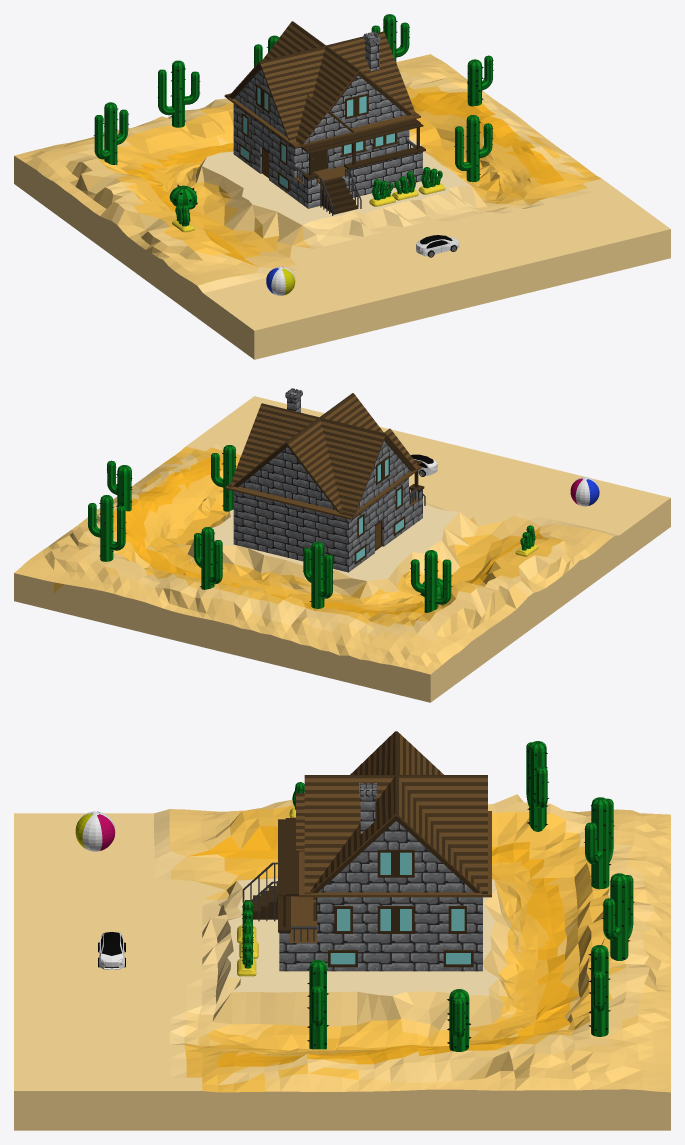
3 views of the same model, one above another, from view 1: azimuth 30°, elevation 25°; view 2: azimuth 150°, elevation 25°; view 3: azimuth 270°, elevation 25° (orthographic). The views are drawn at different scales.
Visible parts, largest first — view 1: Cube.001, Cube.586, Cylinder.037, Cylinder.044, Cylinder.045, Cylinder.038, Cylinder.042, VEHICLES_TESLA, OBJRANDOM_BEACHBALL, Cylinder.039, Cylinder.041, Sphere.023 (+1 smaller); view 2: Cube.001, Cube.586, Cylinder.042, Cylinder.045, Cylinder.044, Cylinder.043, Cylinder.037, Cylinder.038, OBJRANDOM_BEACHBALL; view 3: Cube.001, Cube.586, Cylinder.043, Cylinder.044, Cylinder.045, Cylinder.042, Cylinder.037, OBJRANDOM_BEACHBALL, Cylinder.038, VEHICLES_TESLA, Cylinder.041.
Part boxes in pixels (bbox=[...]): Cube.001: bbox=[14, 54, 670, 359]; Cube.586: bbox=[224, 21, 425, 215]; Cylinder.037: bbox=[454, 115, 493, 182]; Cylinder.044: bbox=[157, 60, 200, 127]; Cylinder.045: bbox=[93, 102, 129, 164]; Cylinder.038: bbox=[467, 55, 493, 106]; Cylinder.042: bbox=[371, 14, 409, 62]; VEHICLES_TESLA: bbox=[416, 235, 459, 257]; OBJRANDOM_BEACHBALL: bbox=[266, 266, 295, 295]; Cylinder.039: bbox=[369, 179, 395, 206]; Cylinder.041: bbox=[418, 167, 445, 194]; Sphere.023: bbox=[169, 184, 197, 209]; Cube.001: bbox=[14, 396, 670, 702]; Cube.586: bbox=[225, 388, 425, 572]; Cylinder.042: bbox=[88, 495, 126, 561]; Cylinder.045: bbox=[410, 550, 452, 612]; Cylinder.044: bbox=[303, 541, 333, 608]; Cylinder.043: bbox=[193, 527, 222, 589]; Cylinder.037: bbox=[211, 445, 240, 511]; Cylinder.038: bbox=[107, 460, 132, 511]; OBJRANDOM_BEACHBALL: bbox=[570, 477, 599, 506]; Cube.001: bbox=[14, 794, 670, 1130]; Cube.586: bbox=[242, 731, 491, 971]; Cylinder.043: bbox=[602, 873, 634, 960]; Cylinder.044: bbox=[584, 797, 614, 889]; Cylinder.045: bbox=[526, 741, 548, 831]; Cylinder.042: bbox=[588, 945, 610, 1036]; Cylinder.037: bbox=[307, 959, 328, 1049]; OBJRANDOM_BEACHBALL: bbox=[75, 811, 115, 851]; Cylinder.038: bbox=[447, 989, 471, 1051]; VEHICLES_TESLA: bbox=[98, 932, 125, 969]; Cylinder.041: bbox=[237, 933, 256, 976].
Bounding box in the file's own units: 4002 × 1644 × 4001.
Materials: 23 (3 with a texture image).
